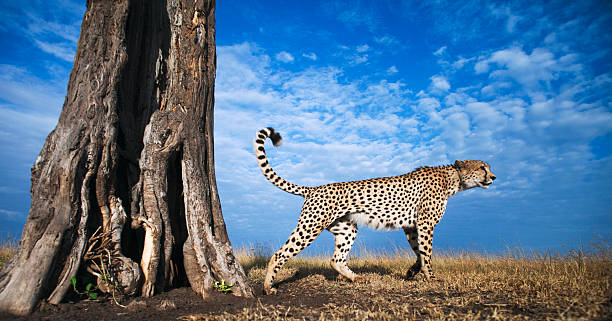cheetah: (459, 155, 501, 194)
